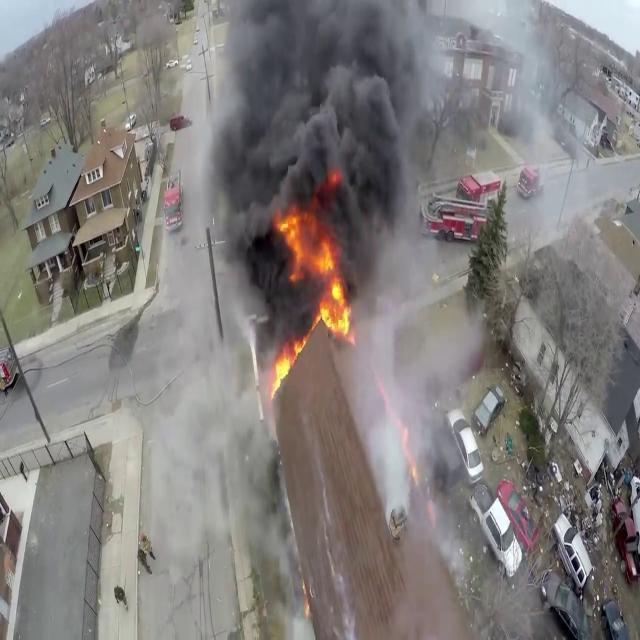Fire: (274, 202, 354, 338), (272, 329, 306, 393)
Smoke: (188, 0, 452, 299)
